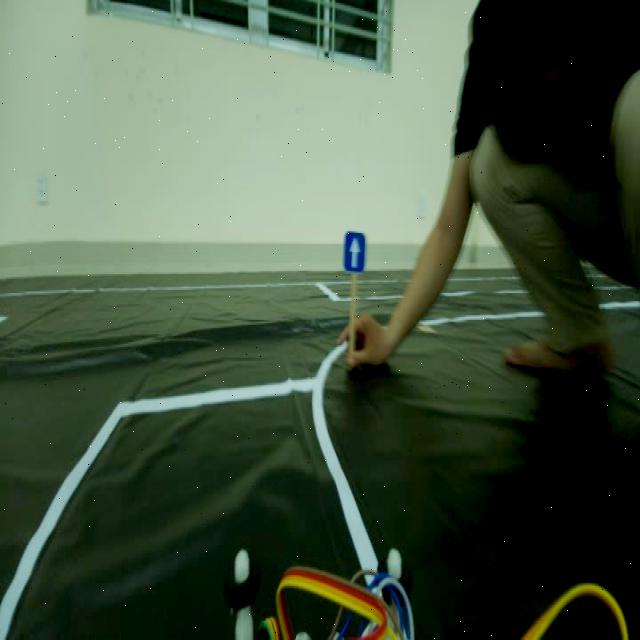onewayroad: (340, 226, 368, 267)
